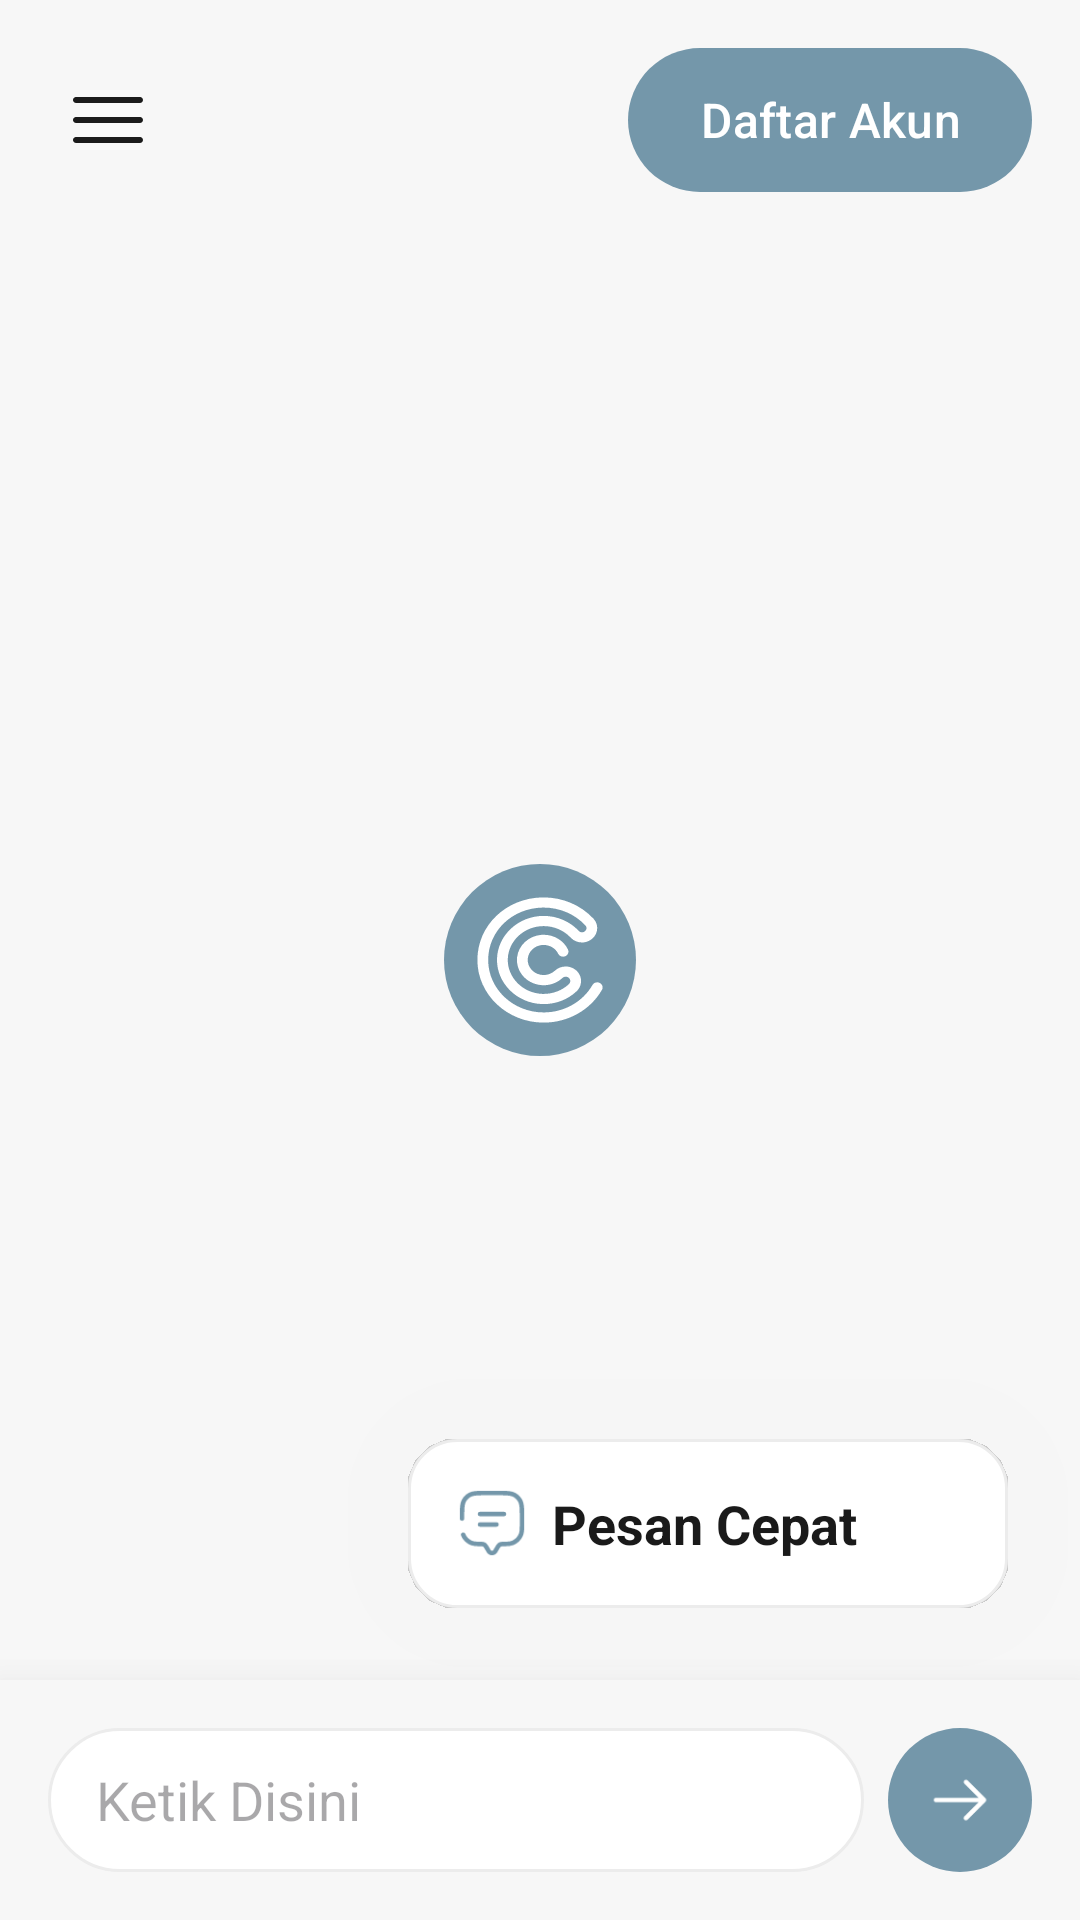

Icons on this 1080×1920 Android screen, each with the point to tap as (x=x, y=y):
chat: (x=492, y=1523)
menu: (x=108, y=120)
